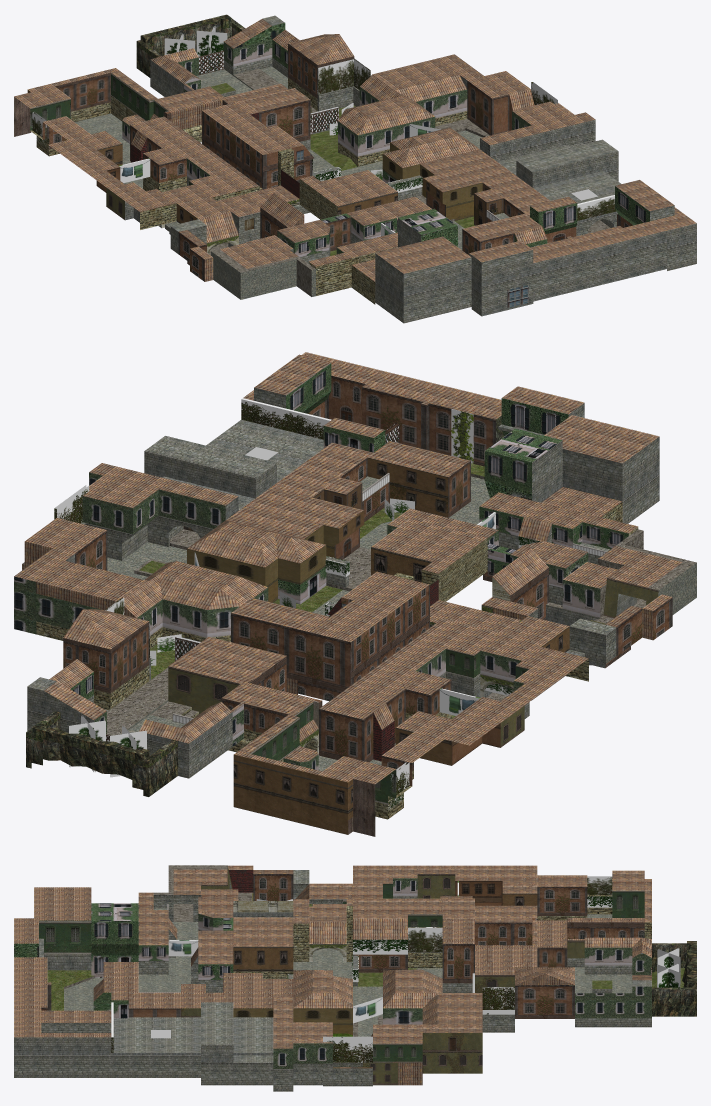
The model's file is fy_neverdanger.fbx.
3 renders of one model, top to bottom at view 1: azimuth 30°, elevation 25°; view 2: azimuth 150°, elevation 25°; view 3: azimuth 270°, elevation 25°, orthographic. The views are drawn at different scales.
Parts seen in each view (by area): view 1: ak47; view 2: ak47; view 3: ak47.
Boxes of the visible parts, x1,y1,x2,y2 form: ak47: (14, 14, 696, 323); ak47: (14, 352, 696, 836); ak47: (14, 865, 696, 1091).
Bounding box in the file's own units: 84.85 × 14.07 × 120.
